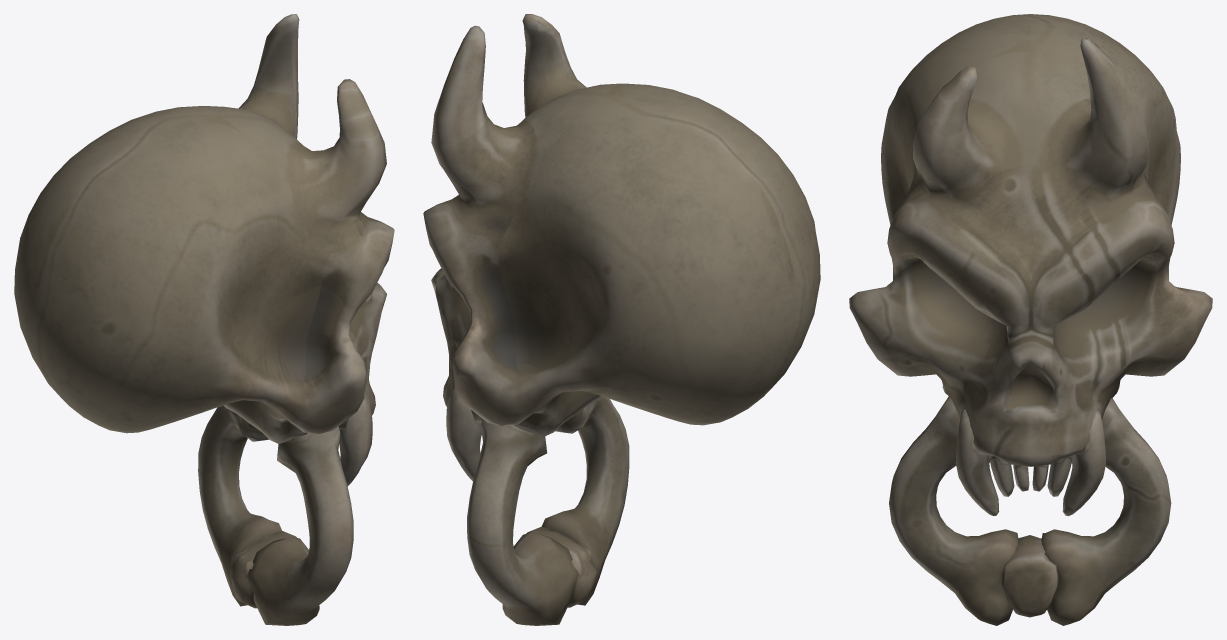
File: Skull_B.fbx
3 renders of one model, left to right at view 1: azimuth 30°, elevation 25°; view 2: azimuth 150°, elevation 25°; view 3: azimuth 270°, elevation 25°, orthographic. The views are drawn at different scales.
Visible parts, largest first — view 1: Skull_B; view 2: Skull_B; view 3: Skull_B.
Boxes of the visible parts, x1,y1,x2,y2 form: Skull_B: (14,14,394,625); Skull_B: (423,14,820,625); Skull_B: (849,14,1212,625).
Size of the model in its own units: 321 by 504 by 274.
